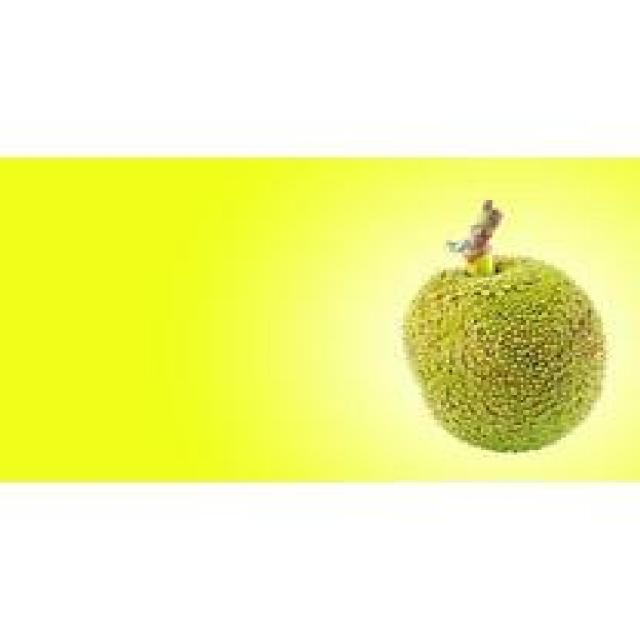Fruit: (384, 238, 630, 470)
